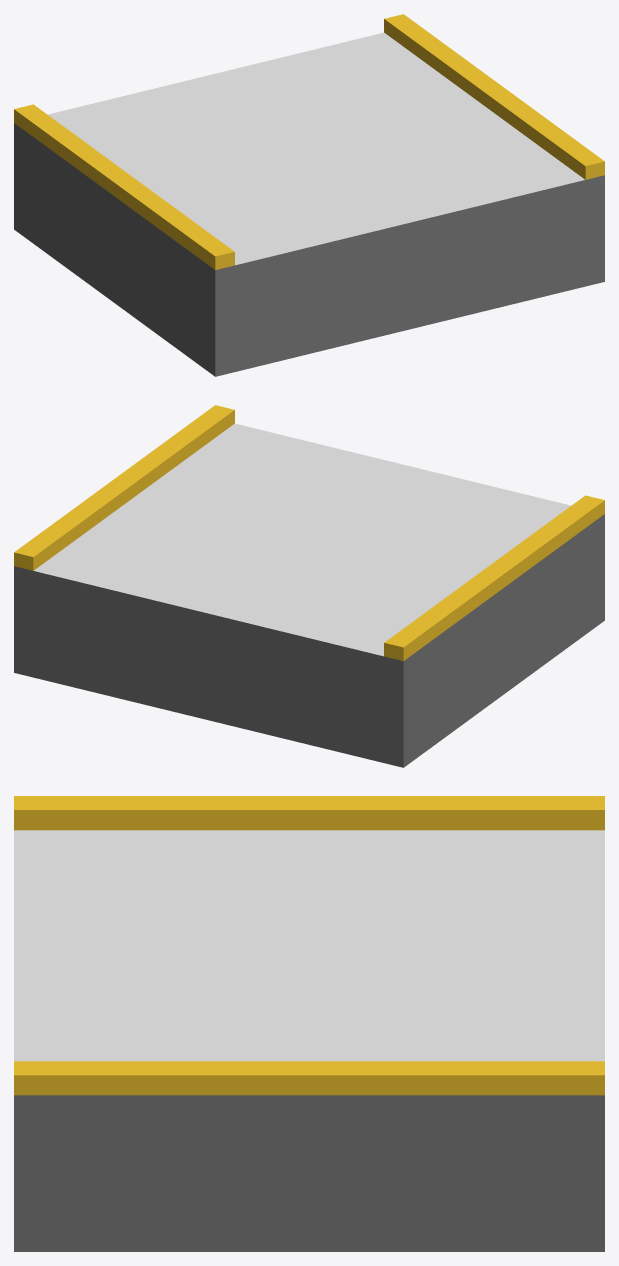
The model's file is plat_straight_pivot.fbx.
The picture shows the model from 3 angles, top to bottom: view 1: azimuth 30°, elevation 25°; view 2: azimuth 150°, elevation 25°; view 3: azimuth 270°, elevation 25°; orthographic projection. The views are drawn at different scales.
Parts seen in each view (by area): view 1: Platform_Straight; view 2: Platform_Straight; view 3: Platform_Straight.
Part boxes in pixels (<box>): Platform_Straight: <box>14,14,604,376</box>; Platform_Straight: <box>14,405,604,767</box>; Platform_Straight: <box>14,796,604,1251</box>.
Size of the model in its own units: 1192 by 352 by 1067.
